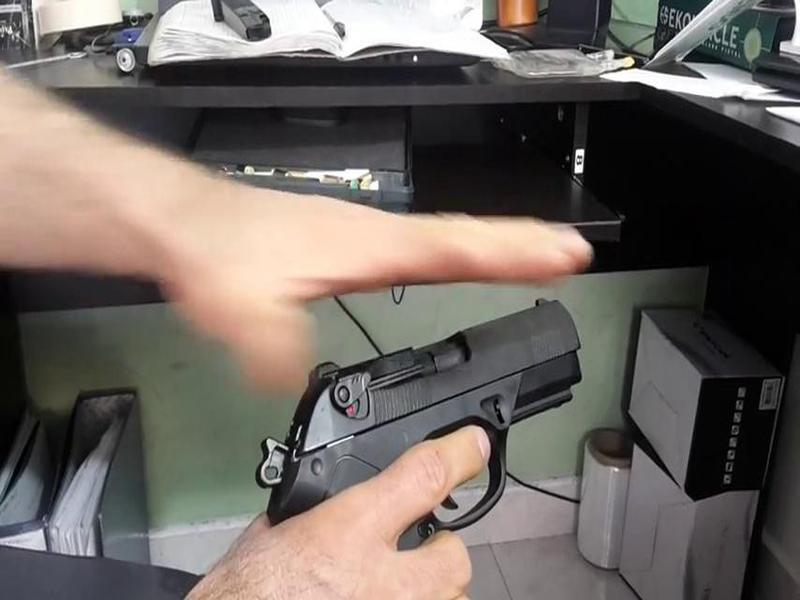Pistola: (258, 323, 593, 507)
